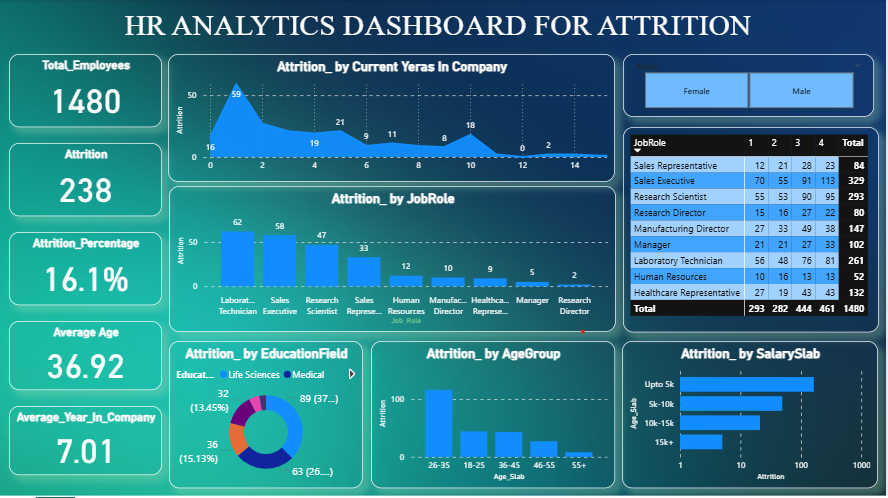

What the dashboard file says about the page in this screenshot:
{"tool":"powerbi","page":{"name":"Page 1","canvas":[1280,720],"ordinal":0},"visuals":[{"type":"card","title":"Total_Employees","fields":{"Values":["Sum(HR_Analytics.EmployeeCount)"]},"box":[13,79.5,221.2,105.5],"z":0},{"type":"card","title":"Attrition","fields":{"Values":["Sum(HR_Analytics.attrition_)"]},"box":[13,208.2,221.2,105.5],"z":1000},{"type":"card","title":"Attrition_Percentage","fields":{"Values":["HR_Analytics.Attrition percentage"]},"box":[13,336.9,221.2,105.5],"z":2000},{"type":"card","title":"Average Age","fields":{"Values":["Avg(HR_Analytics.Age)"]},"box":[13,465.5,221.2,99.8],"z":3000},{"type":"card","title":"Average_Year_In_Company","fields":{"Values":["Avg(HR_Analytics.YearsAtCompany)"]},"box":[13,588.4,221.2,99.8],"z":4000},{"type":"donutChart","title":"Attrition_ by EducationField","fields":{"Y":["Sum(HR_Analytics.attrition_)"],"Category":["HR_Analytics.EducationField"]},"box":[244.3,494.5,280.5,212.5],"z":5000},{"type":"columnChart","title":"Attrition_ by AgeGroup","fields":{"Category":["HR_Analytics.AgeGroup"],"Y":["Sum(HR_Analytics.attrition_)"]},"box":[536.4,494.5,352.8,212.5],"z":6000},{"type":"barChart","title":" Attrition_ by SalarySlab","fields":{"Y":["Sum(HR_Analytics.attrition_)"],"Category":["HR_Analytics.SalarySlab"]},"box":[899.3,494.5,370.1,212.5],"z":7000},{"type":"columnChart","title":"Attrition_ by JobRole","fields":{"Y":["Sum(HR_Analytics.attrition_)"],"Category":["HR_Analytics.JobRole"]},"box":[244.3,270.4,646.3,211.1],"z":8000},{"type":"areaChart","title":"Attrition_ by Current Yeras In Company","fields":{"Y":["Sum(HR_Analytics.attrition_)"],"Category":["HR_Analytics.YearsAtCompany"]},"box":[242.9,79.5,646.3,185.1],"z":9000},{"type":"pivotTable","fields":{"Rows":["HR_Analytics.JobRole"],"Columns":["HR_Analytics.JobSatisfaction"],"Values":["Sum(HR_Analytics.EmployeeCount)"]},"box":[900,185,370,296.7],"z":10000},{"type":"slicer","fields":{"Values":["HR_Analytics.Gender"]},"box":[900.7,79.5,362.9,91.1],"z":11000},{"type":"textbox","box":[102.7,8.7,1061.2,70.8],"z":12000}]}

Visuals, with their boxes in screenshot pixels (x1, y1, x2, y2), scaled from the page's 1280x720 canvas onto the 888x498 screenshot:
"Total_Employees" card: 9/55/162/128
"Attrition" card: 9/144/162/217
"Attrition_Percentage" card: 9/233/162/306
"Average Age" card: 9/322/162/391
"Average_Year_In_Company" card: 9/407/162/476
"Attrition_ by EducationField" donutChart: 169/342/364/489
"Attrition_ by AgeGroup" columnChart: 372/342/617/489
" Attrition_ by SalarySlab" barChart: 624/342/881/489
"Attrition_ by JobRole" columnChart: 169/187/618/333
"Attrition_ by Current Yeras In Company" areaChart: 169/55/617/183
pivotTable - HR_Analytics.JobRole x HR_Analytics.JobSatisfaction: 624/128/881/333
slicer - HR_Analytics.Gender: 625/55/877/118
textbox: 71/6/807/55
